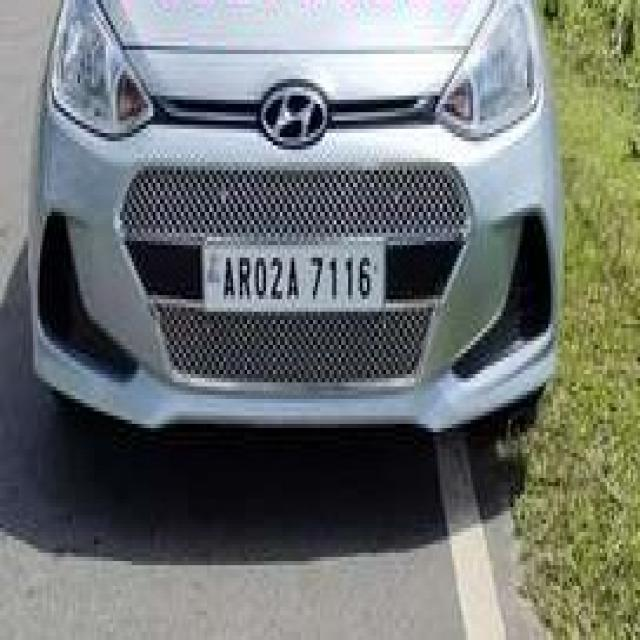license-plate: (200, 232, 381, 308)
